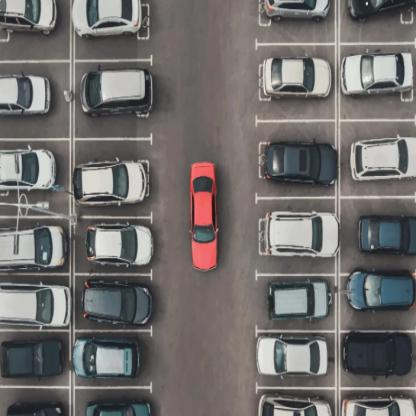Car: (188, 145, 223, 267), (344, 270, 415, 329), (91, 212, 153, 273), (84, 59, 148, 117), (91, 145, 152, 201), (344, 45, 416, 92), (258, 336, 330, 378), (255, 214, 340, 249), (266, 272, 332, 317), (341, 332, 411, 374), (0, 68, 58, 118), (351, 204, 415, 248), (80, 339, 149, 378), (350, 139, 411, 181), (79, 286, 158, 318), (2, 152, 59, 195), (2, 0, 60, 41), (8, 223, 61, 266), (258, 142, 333, 172), (2, 289, 75, 319), (78, 2, 146, 33), (15, 336, 63, 378), (268, 0, 333, 25), (258, 69, 333, 89), (79, 395, 151, 415), (263, 394, 328, 415), (329, 400, 407, 415), (348, 0, 392, 24), (9, 399, 67, 415)
